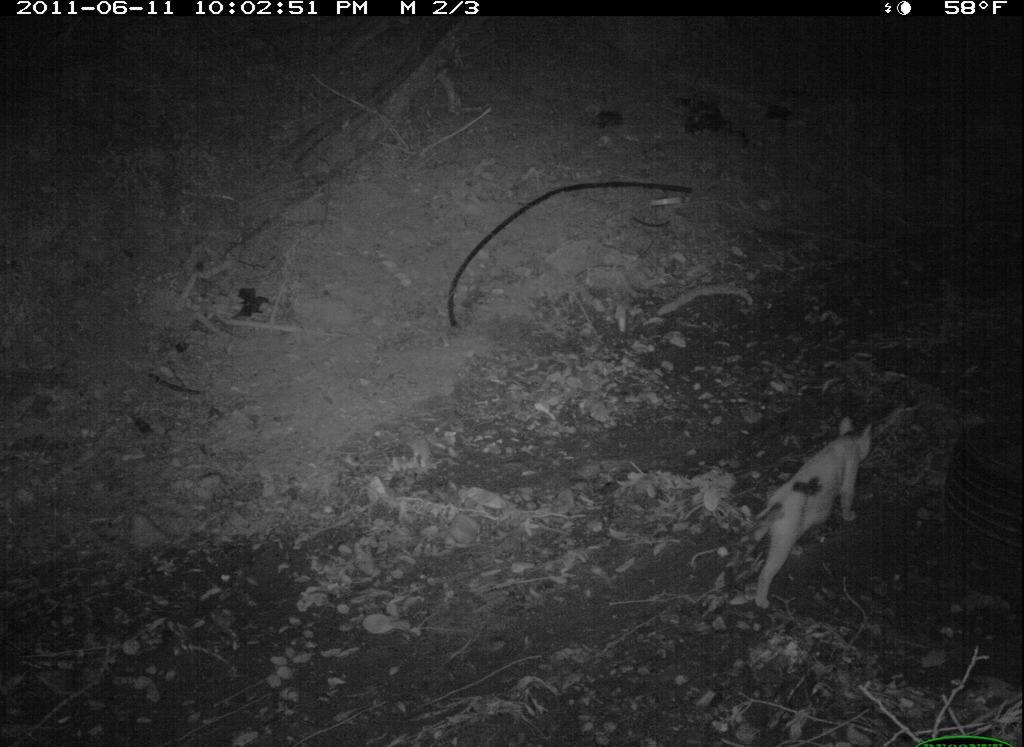cat: (735, 411, 881, 617)
